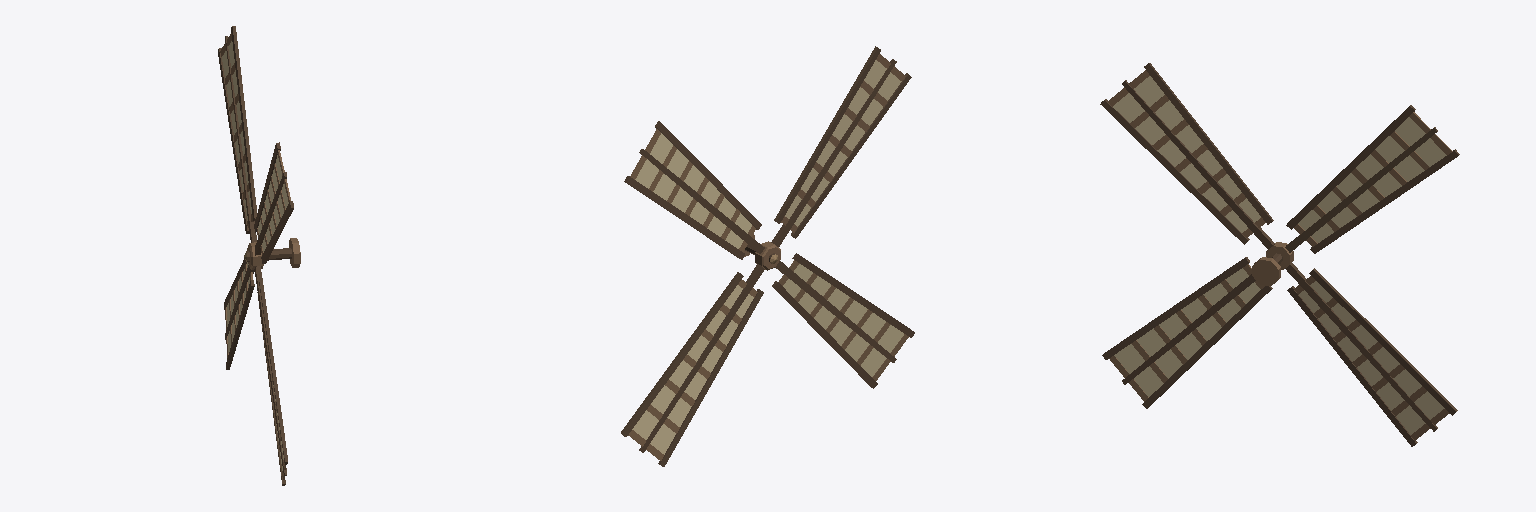
The model's file is fusya.rot.obj.
3 views of the same model, side by side, from view 1: azimuth 30°, elevation 25°; view 2: azimuth 150°, elevation 25°; view 3: azimuth 270°, elevation 25° (orthographic).
Visible parts, largest first — view 1: fusya2:Wall_Prop_Windmill_1:windmill group12; view 2: fusya2:Wall_Prop_Windmill_1:windmill group12; view 3: fusya2:Wall_Prop_Windmill_1:windmill group12.
Boxes of the visible parts, x1=… form: fusya2:Wall_Prop_Windmill_1:windmill group12: x1=218, y1=26, x2=300, y2=485; fusya2:Wall_Prop_Windmill_1:windmill group12: x1=621, y1=46, x2=914, y2=466; fusya2:Wall_Prop_Windmill_1:windmill group12: x1=1100, y1=63, x2=1459, y2=446.
Size of the model in its own units: 2.49 by 6.9 by 6.55.